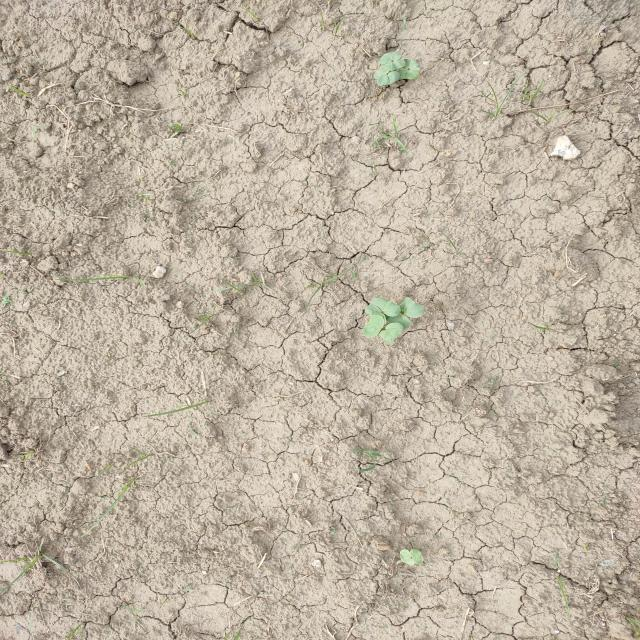seedling: (370, 297, 401, 317), (398, 297, 425, 318), (379, 322, 404, 344), (363, 315, 384, 338), (365, 305, 386, 325), (385, 313, 411, 329), (377, 71, 400, 86), (379, 51, 402, 64), (382, 59, 406, 71), (400, 549, 414, 566), (397, 69, 420, 79), (410, 549, 424, 564), (403, 59, 420, 71), (373, 68, 389, 79)
